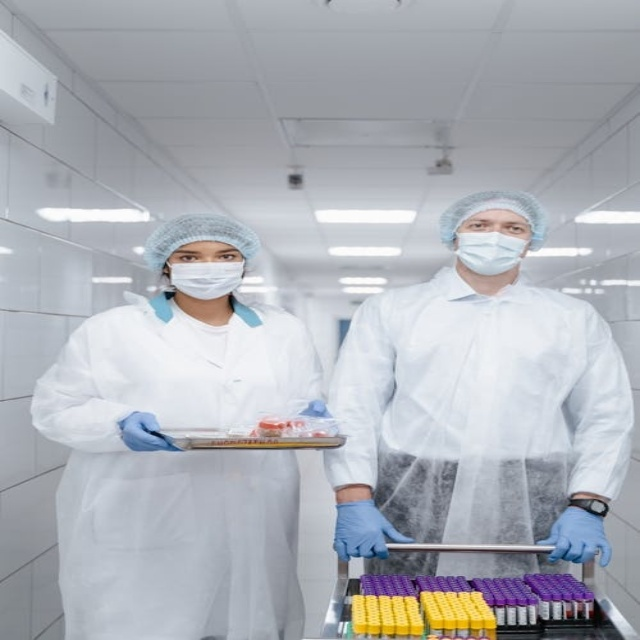Guantes: (538, 502, 614, 567), (332, 499, 411, 559), (115, 410, 174, 452)
Mascara: (453, 230, 529, 275), (166, 258, 246, 299)
Sin_gafas: (468, 216, 527, 232), (177, 249, 238, 263)
